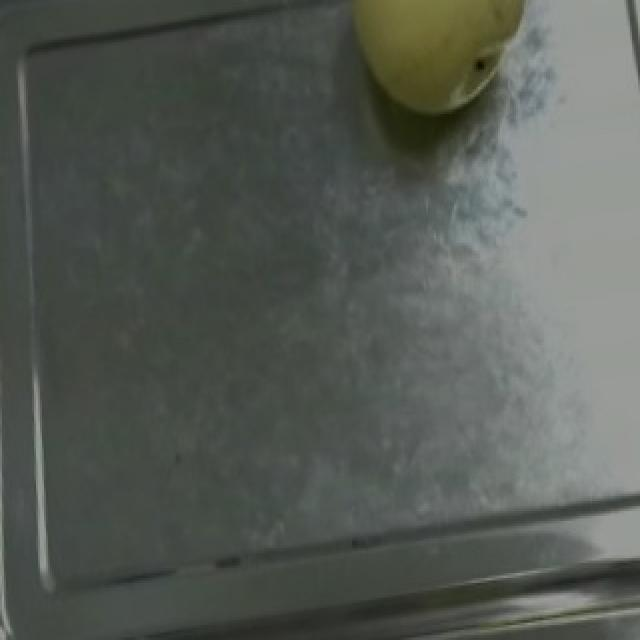Fruit: (318, 0, 556, 141)
